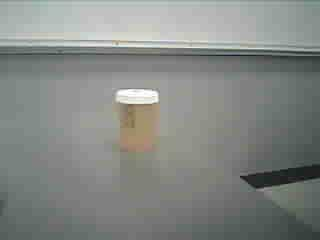Bottle B: (107, 83, 168, 156)
